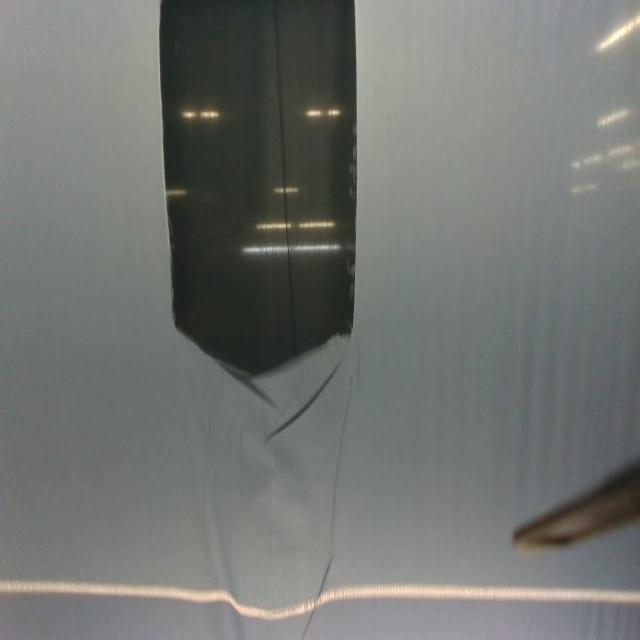crease: (265, 361, 345, 444), (329, 371, 354, 547), (303, 555, 334, 640)
hole: (158, 0, 360, 375)
